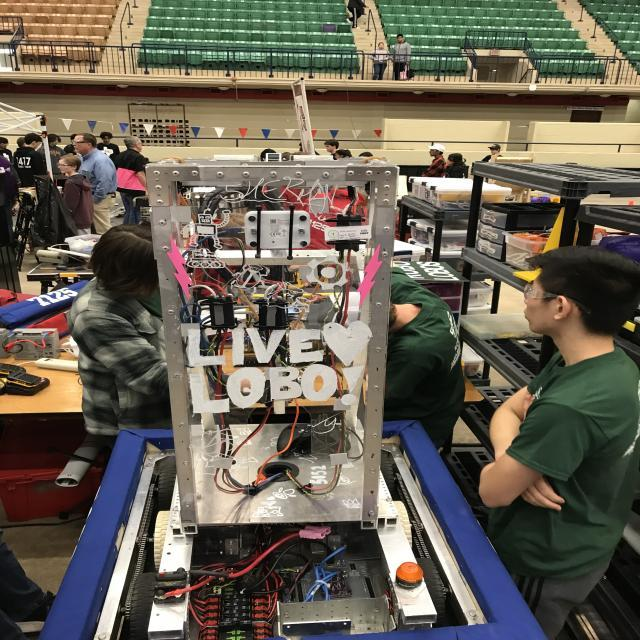robot: (19, 141, 552, 640)
